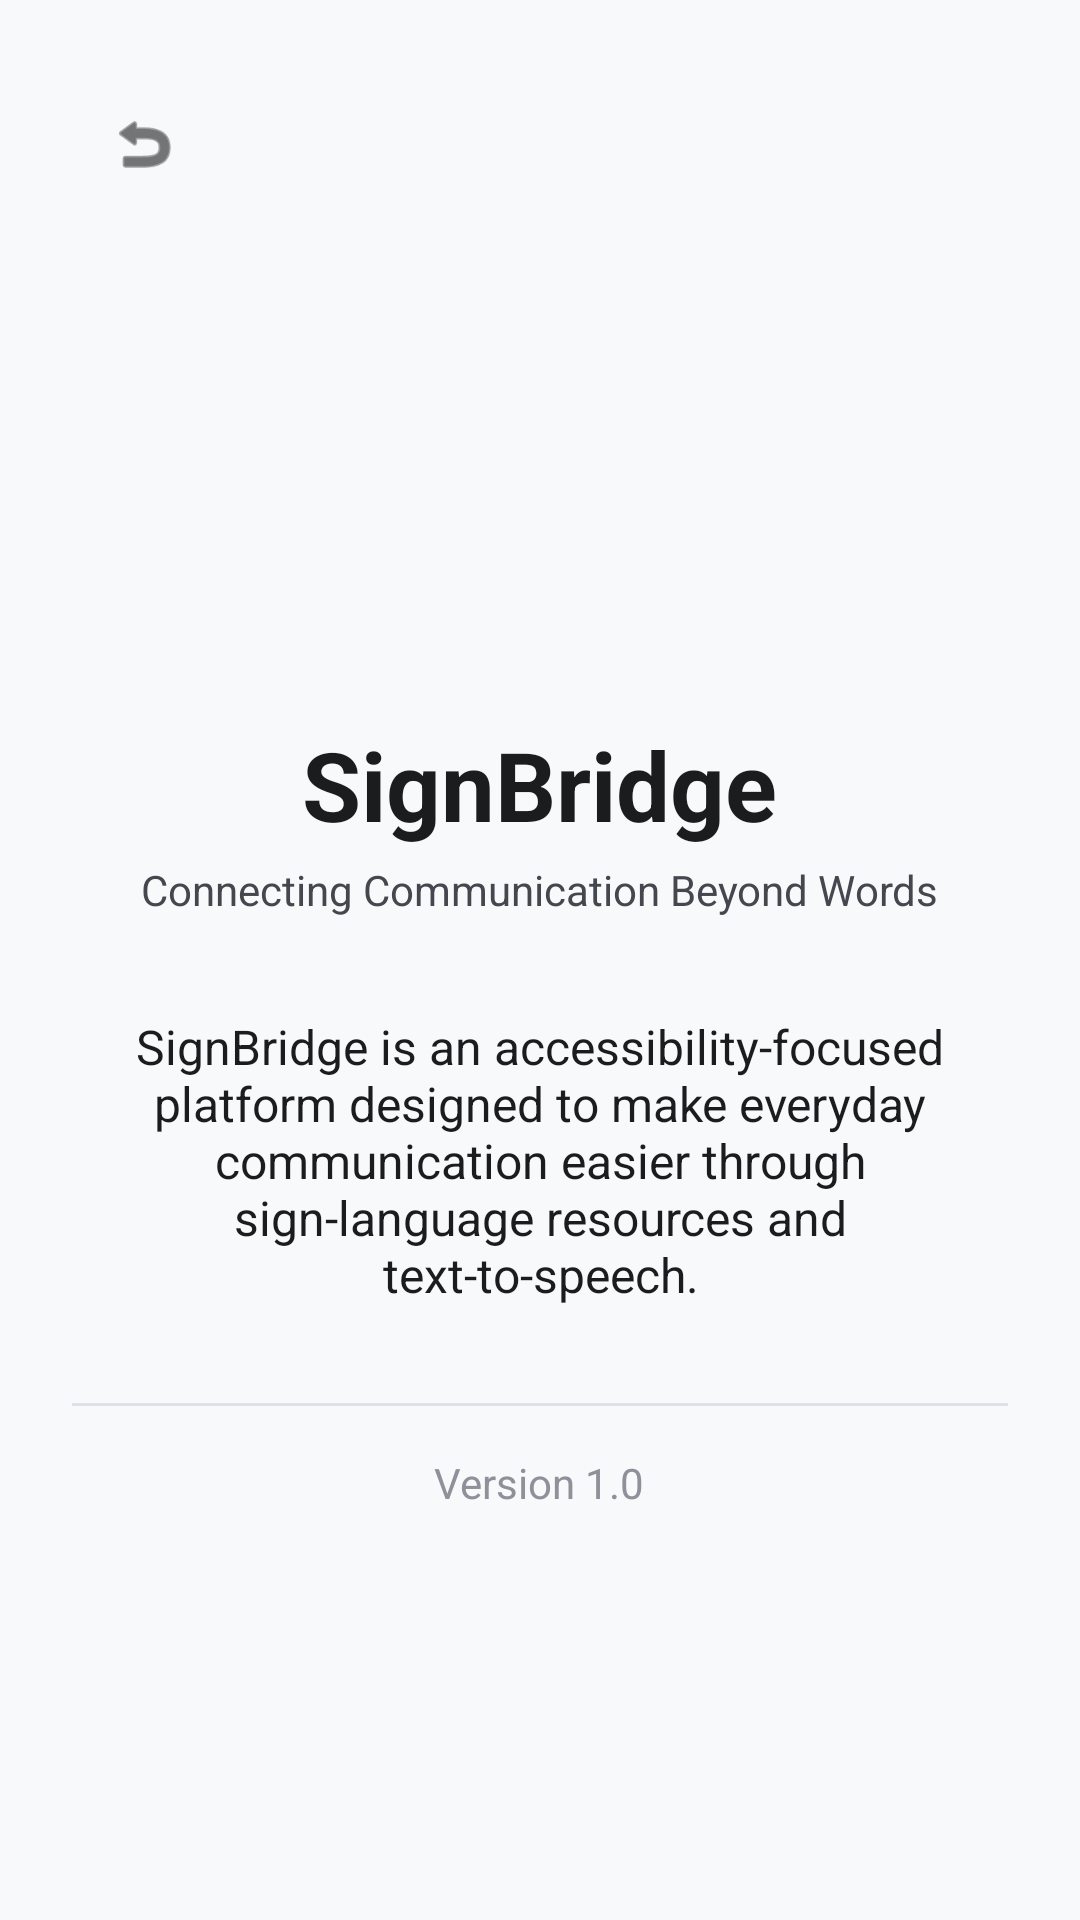

Screen size 1080×1920. Icon name, then its box in pixels as (x1, y1, x2, y2):
revert: (119, 121, 171, 168)
